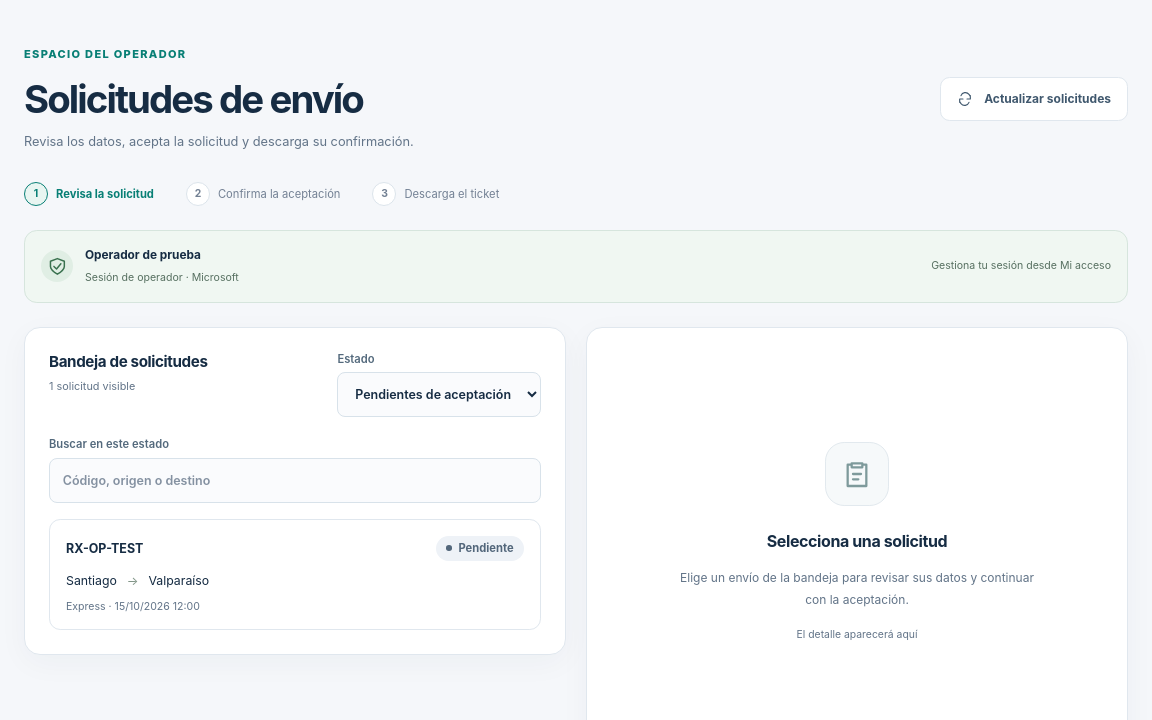
Test case: Operator workflow › muestra la bandeja vacía solo después de una consulta correcta
Step 1. Click the button with class "secondary" → (1034, 99), box x1=940 y1=77 x2=1128 y2=121
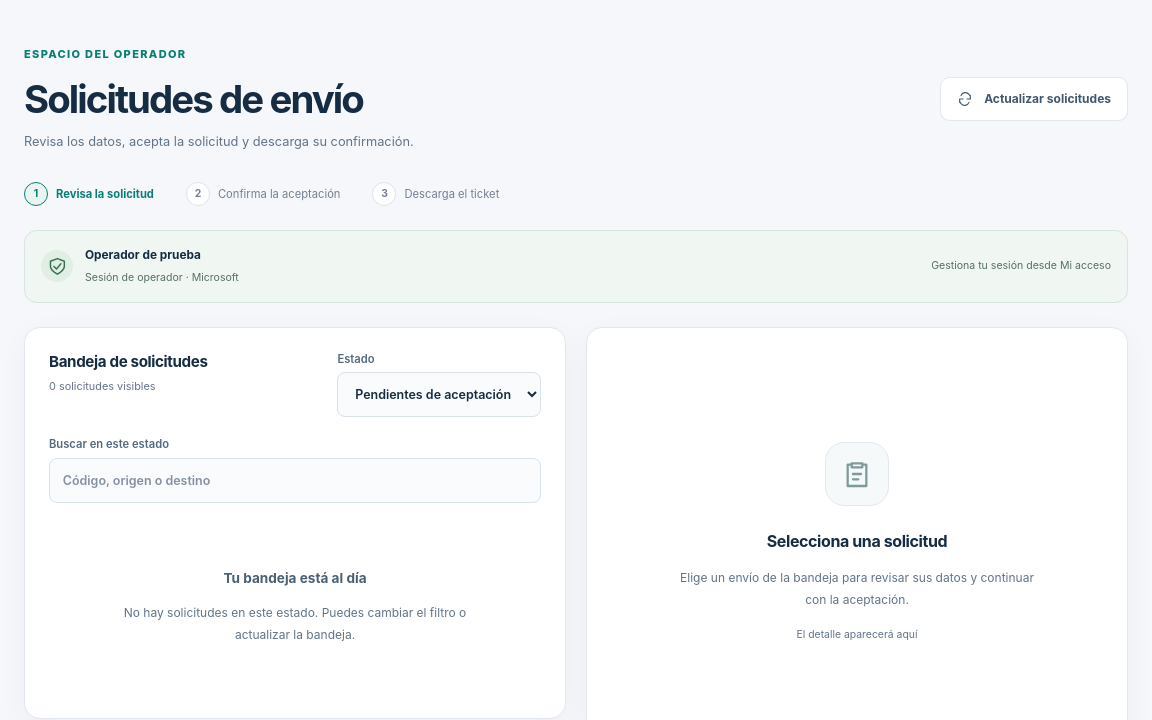
Result: the text "Tu bandeja está al día" is shown at x1=224 y1=570 x2=367 y2=586
